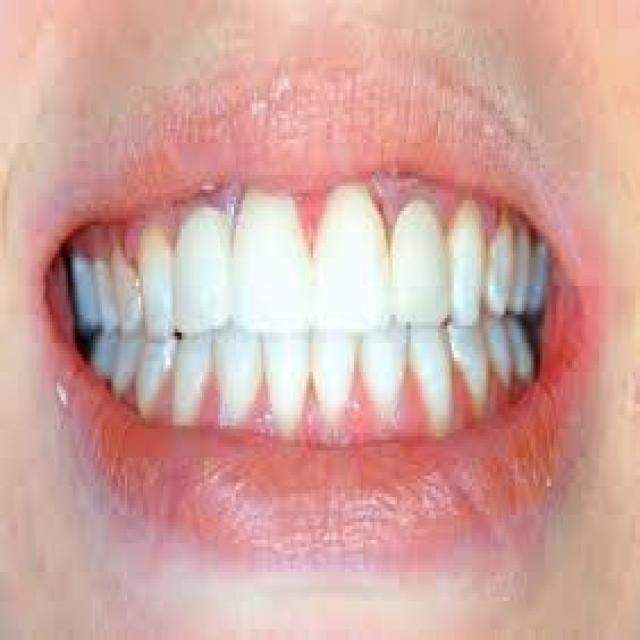tooth: (229, 186, 313, 340), (311, 182, 390, 329), (388, 190, 452, 336), (166, 211, 236, 340), (306, 325, 361, 440), (406, 318, 458, 429), (209, 322, 265, 425), (132, 218, 179, 336), (361, 322, 408, 429), (263, 340, 313, 432), (452, 190, 484, 326), (450, 311, 492, 411), (107, 232, 143, 336), (173, 329, 211, 425), (134, 322, 172, 415), (488, 193, 513, 322)
